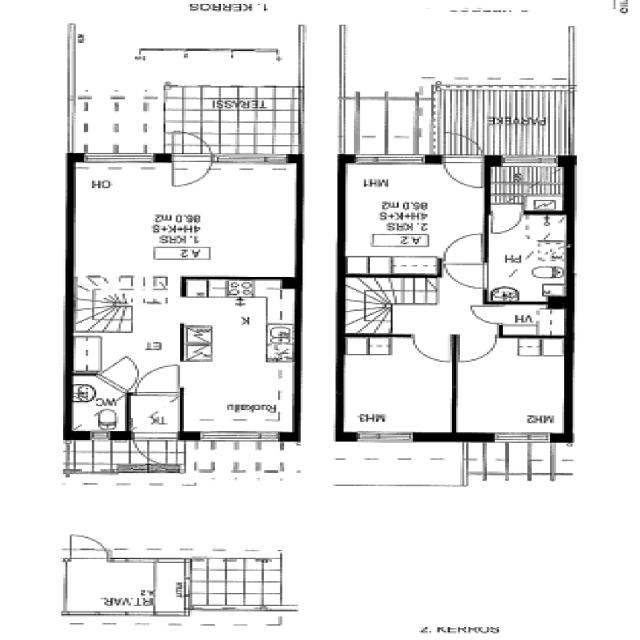door: (342, 337, 454, 435), (436, 130, 487, 192), (164, 132, 215, 190), (129, 432, 180, 468), (132, 362, 185, 395), (438, 230, 488, 264), (441, 259, 494, 291), (408, 333, 456, 365), (453, 333, 500, 364), (64, 533, 110, 562), (482, 207, 527, 236), (101, 358, 138, 388), (464, 302, 507, 326)
window: (73, 151, 166, 169), (344, 151, 436, 168), (212, 152, 291, 171), (191, 429, 287, 443), (349, 428, 422, 446), (481, 430, 560, 444), (78, 608, 159, 620), (496, 154, 558, 164), (84, 431, 113, 442)
zone: (68, 159, 300, 275), (180, 286, 296, 436), (342, 158, 485, 276), (456, 336, 569, 436), (341, 338, 453, 437), (68, 75, 170, 158), (486, 211, 570, 304), (61, 560, 185, 617), (487, 159, 568, 212), (66, 379, 126, 435), (496, 302, 570, 337), (126, 392, 182, 437)
